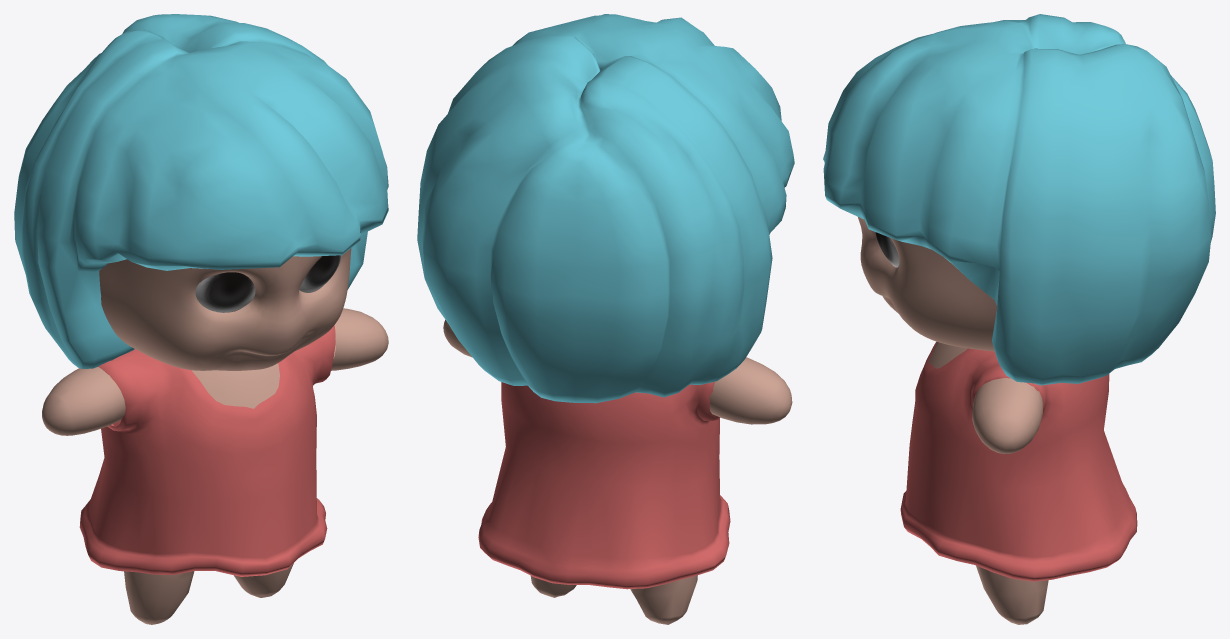
The model's file is 01.CriançaPeralta.fbx.
The picture shows the model from 3 angles, left to right: view 1: azimuth 30°, elevation 25°; view 2: azimuth 150°, elevation 25°; view 3: azimuth 270°, elevation 25°; orthographic projection.
Parts seen in each view (by area): view 1: 01_CriançaPeraltaObj; view 2: 01_CriançaPeraltaObj; view 3: 01_CriançaPeraltaObj.
Part boxes in pixels (box(x1,y1,x2,y2)): 01_CriançaPeraltaObj: box(14, 14, 388, 624); 01_CriançaPeraltaObj: box(417, 14, 794, 624); 01_CriançaPeraltaObj: box(823, 14, 1215, 624).
Size of the model in its own units: 2.41 by 3.82 by 2.42.
